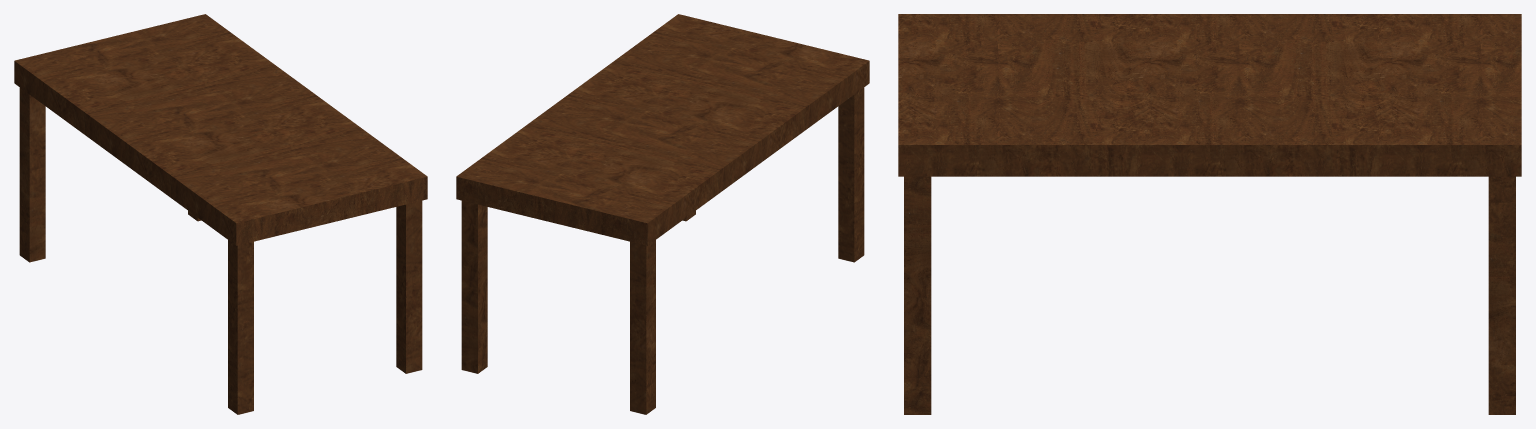
The model's file is table.glb.
3 renders of one model, left to right at view 1: azimuth 30°, elevation 25°; view 2: azimuth 150°, elevation 25°; view 3: azimuth 270°, elevation 25°, orthographic. The views are drawn at different scales.
Parts seen in each view (by area): view 1: Cube; view 2: Cube; view 3: Cube.
Part boxes in pixels (x1,y1,x2,y2): Cube: [14, 14, 427, 414]; Cube: [456, 14, 869, 414]; Cube: [898, 14, 1521, 414].
Size of the model in its own units: 1 by 0.9688 by 2.01.
Materials: 1 (1 with a texture image).
